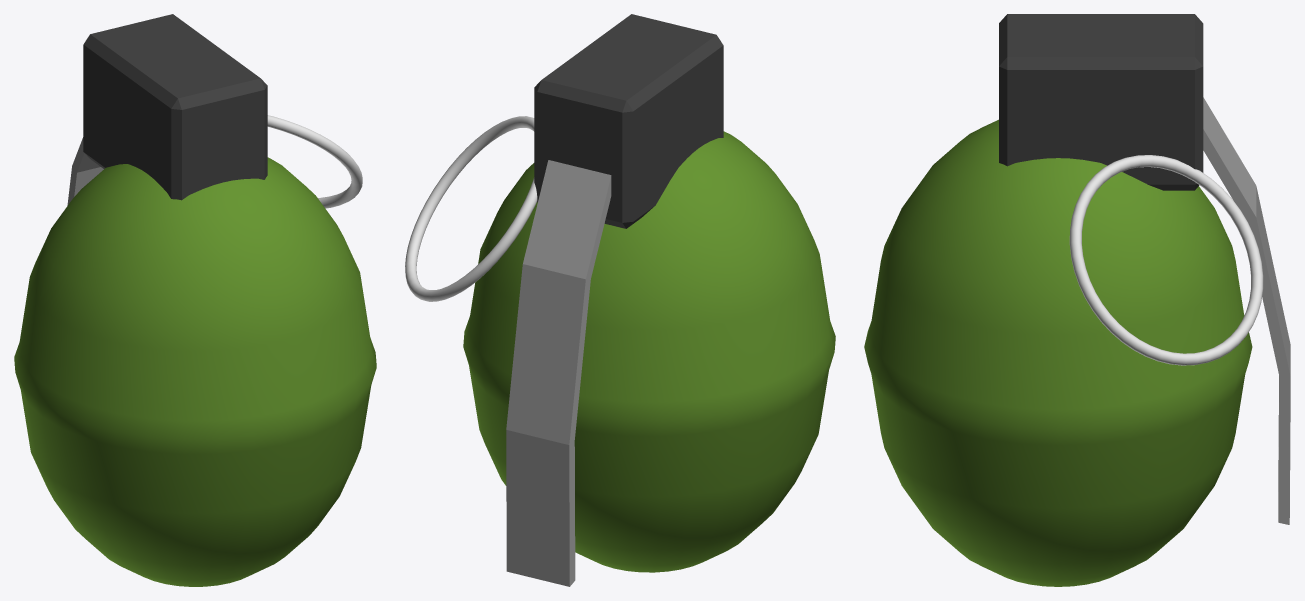
The model's file is grenade.glb.
3 views of the same model, side by side, from view 1: azimuth 30°, elevation 25°; view 2: azimuth 150°, elevation 25°; view 3: azimuth 270°, elevation 25° (orthographic). The views are drawn at different scales.
Parts seen in each view (by area): view 1: Sphere, Cube, Torus, Sphere.001; view 2: Sphere, Sphere.001, Cube, Torus; view 3: Sphere, Cube, Torus, Sphere.001.
Boxes of the visible parts, x1,y1,x2,y2 form: Sphere: (14, 157, 376, 586); Cube: (83, 14, 267, 200); Torus: (267, 115, 362, 208); Sphere.001: (67, 137, 103, 205); Sphere: (463, 131, 835, 572); Sphere.001: (506, 160, 611, 586); Cube: (534, 14, 723, 228); Torus: (405, 116, 537, 301); Sphere: (864, 119, 1252, 586); Cube: (999, 14, 1203, 190); Torus: (1069, 155, 1263, 365); Sphere.001: (1203, 97, 1290, 524).
Size of the model in its own units: 0.7424 by 1.02 by 0.7358.
1 material, 1 textured.
